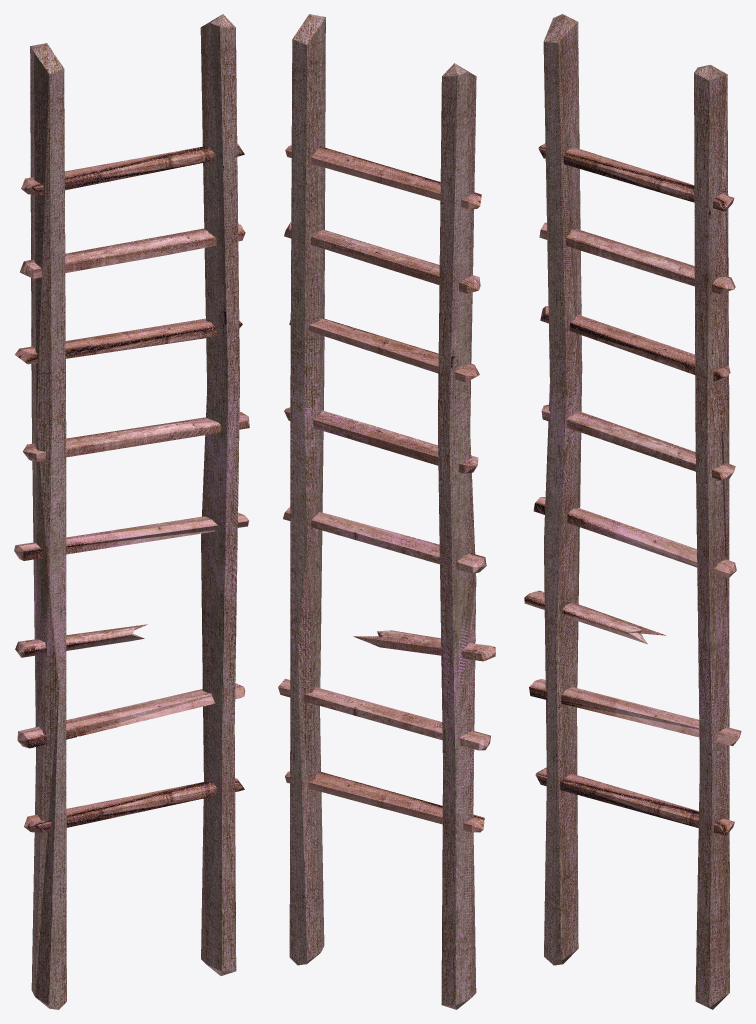
3 views of the same model, side by side, from view 1: azimuth 30°, elevation 25°; view 2: azimuth 150°, elevation 25°; view 3: azimuth 330°, elevation 25° (orthographic).
Parts seen in each view (by area): view 1: lad-side2 (×2), lad-step2 (×3), lad-step1 (×2), lad-step3 (×2), lad-step4; view 2: lad-side2 (×2), lad-step2 (×3), lad-step3 (×2), lad-step1 (×2), lad-step4; view 3: lad-side2 (×2), lad-step2 (×3), lad-step3 (×2), lad-step1 (×2), lad-step4.
Part boxes in pixels (bbox=[...]): lad-side2 (×2): bbox=[30, 14, 239, 1009]; lad-step2 (×3): bbox=[15, 143, 244, 832]; lad-step1 (×2): bbox=[20, 224, 249, 461]; lad-step3 (×2): bbox=[14, 512, 249, 748]; lad-step4: bbox=[15, 624, 147, 657]; lad-side2 (×2): bbox=[289, 14, 476, 1009]; lad-step2 (×3): bbox=[285, 145, 484, 832]; lad-step3 (×2): bbox=[278, 507, 490, 750]; lad-step1 (×2): bbox=[284, 222, 480, 473]; lad-step4: bbox=[353, 630, 495, 661]; lad-side2 (×2): bbox=[543, 14, 729, 1009]; lad-step2 (×3): bbox=[535, 143, 734, 835]; lad-step3 (×2): bbox=[529, 497, 741, 745]; lad-step1 (×2): bbox=[539, 222, 735, 480]; lad-step4: bbox=[524, 590, 666, 644].
Bounding box in the file's own units: 19.88 × 5.39 × 82.64.
3 materials, 2 textured.
